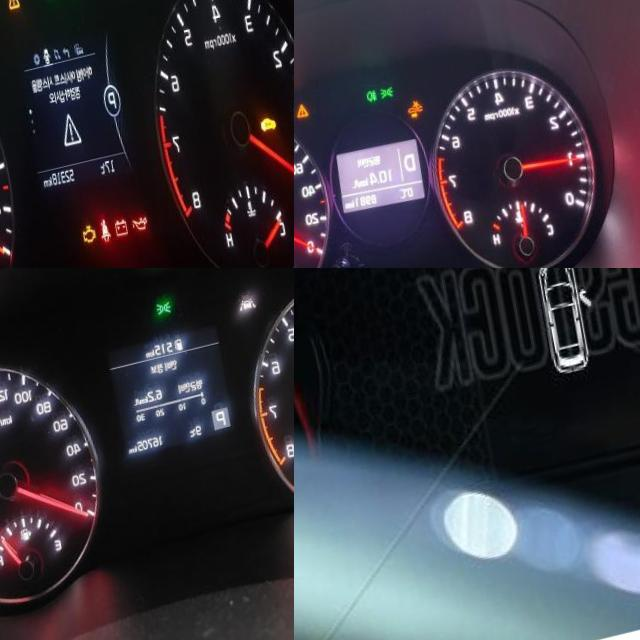Central Warning lamp: (0, 0, 13, 24), (294, 113, 299, 129)
FrontFogLight: (35, 0, 48, 15), (356, 104, 367, 118)
LaneCenteringOff: (229, 312, 248, 329)
SideLamp: (146, 312, 162, 328), (370, 101, 385, 116), (52, 0, 68, 11)
